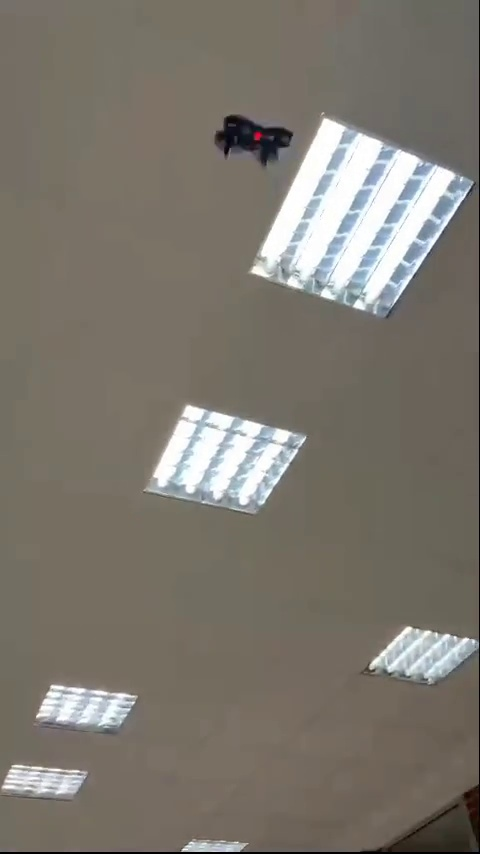drone: (213, 114, 291, 166)
